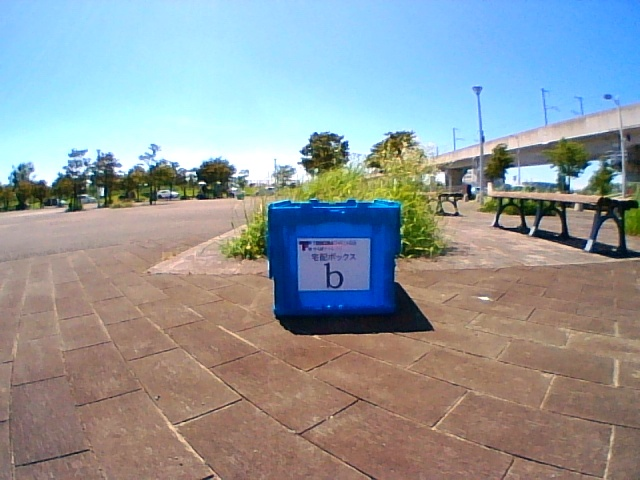blue_box: (276, 201, 394, 311)
tag_b: (297, 238, 370, 290)
